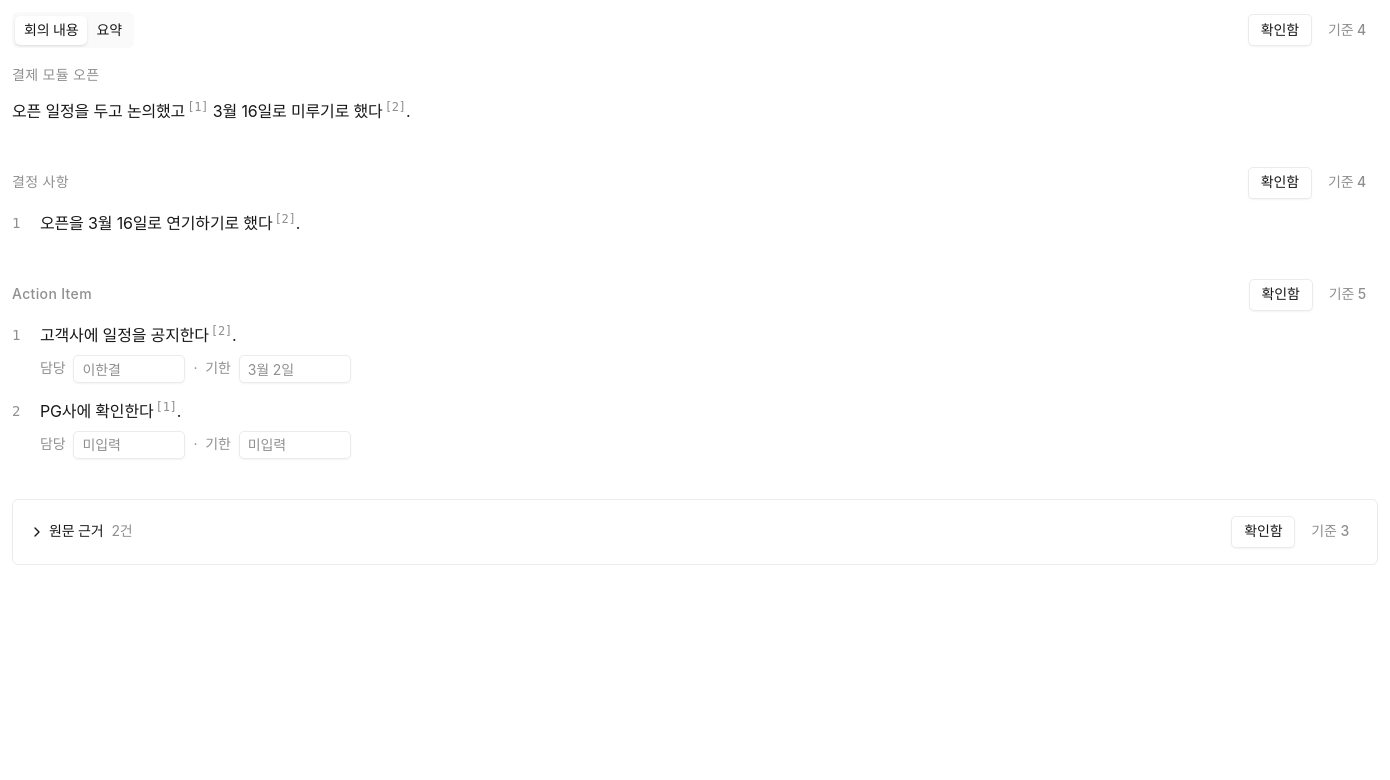
Test: ⛔ 각주는 그 문장에 붙어 있다 › ⛔ 번호는 각주란과 같다 — 어긋나면 각주가 무의미하다
접혀 있으면 목록이 DOM에 없다 — 먼저 편다
Click the button with test id "evidence-toggle" at (81, 532), box [29,520,133,543]
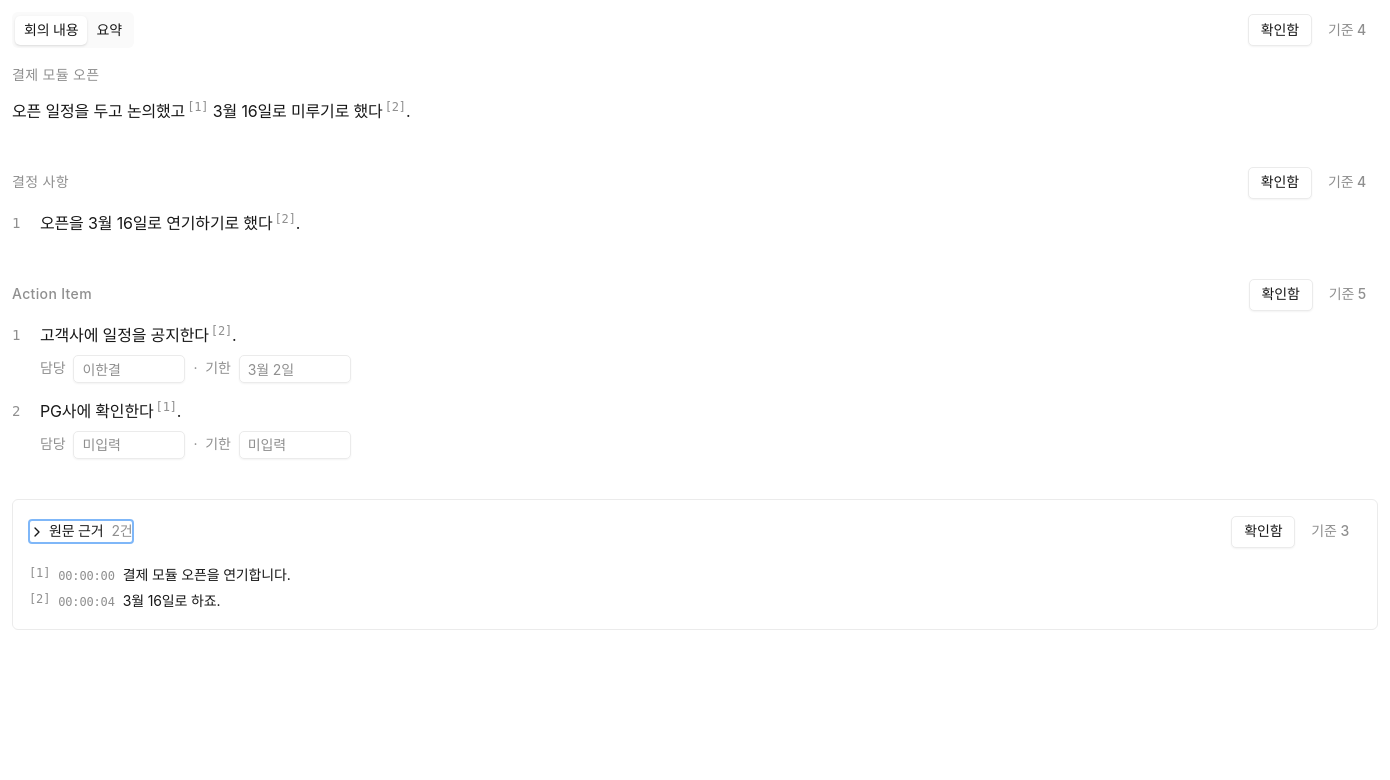
Now the list item "[2] 00:00:043월 16일로 하죠." is shown, box [29,590,220,613]
